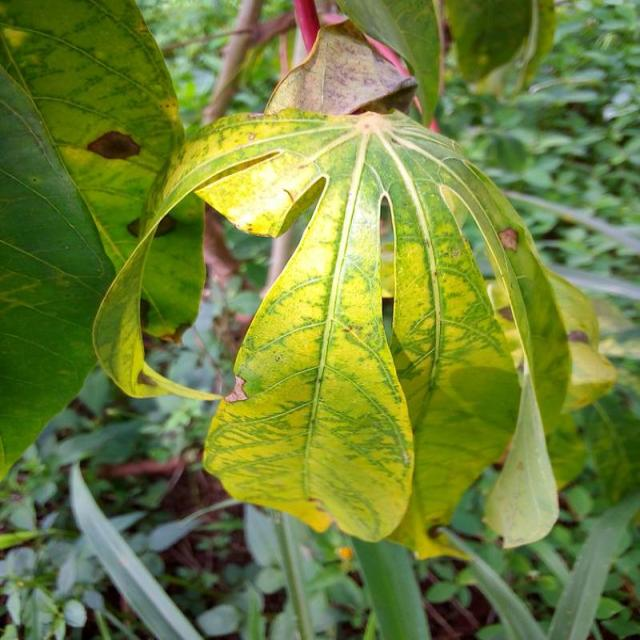cassava leaf: (91, 21, 592, 561), (1, 0, 210, 481)
